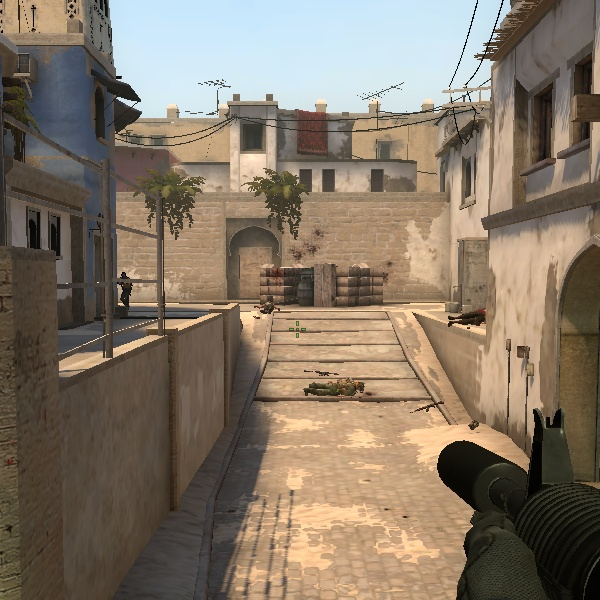t_body: (113, 266, 136, 309)
